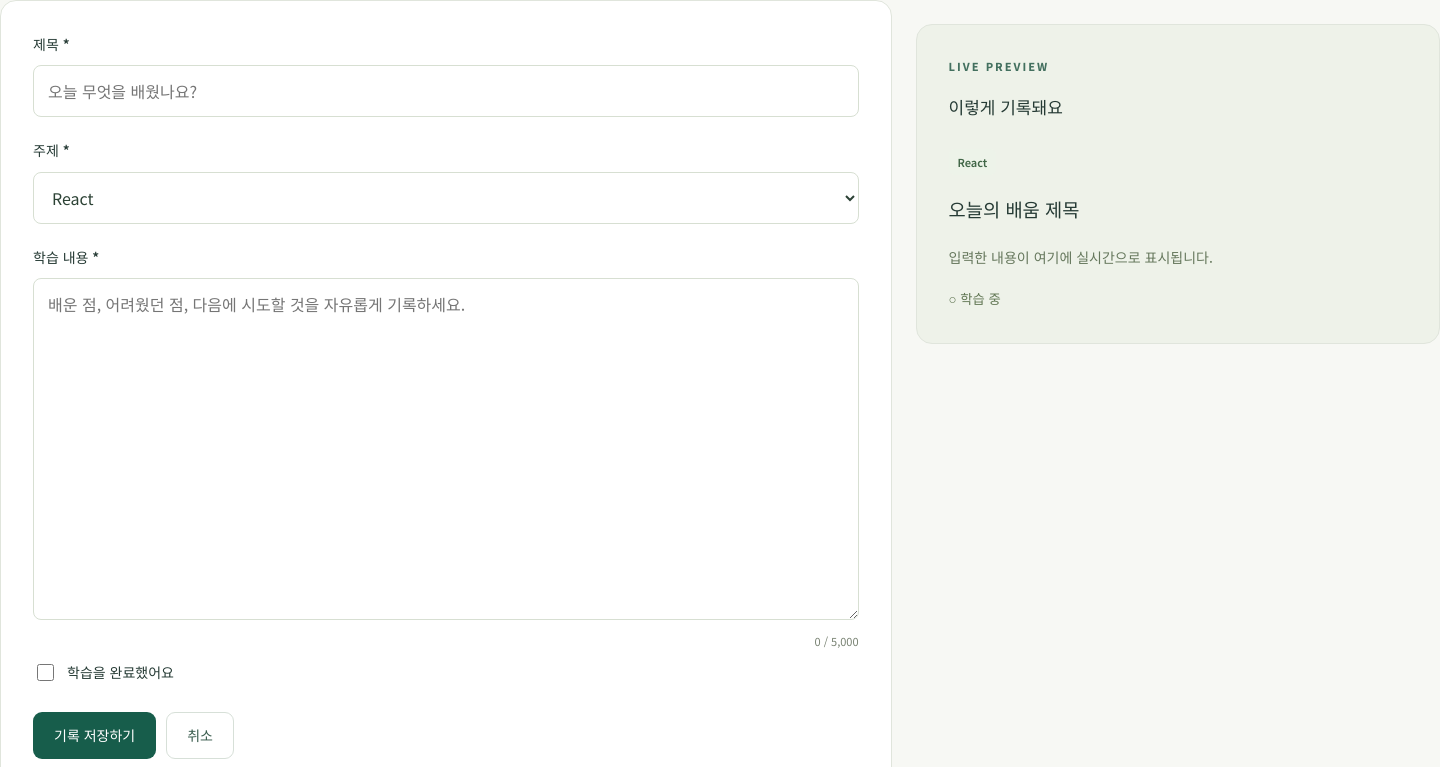
Test case: 학습 기록 사용자 흐름 › 빈 폼은 제출하지 않고 입력 오류를 보여준다
Step 1. Click the button "기록 저장하기" → (95,736), box 33,712 -> 156,759
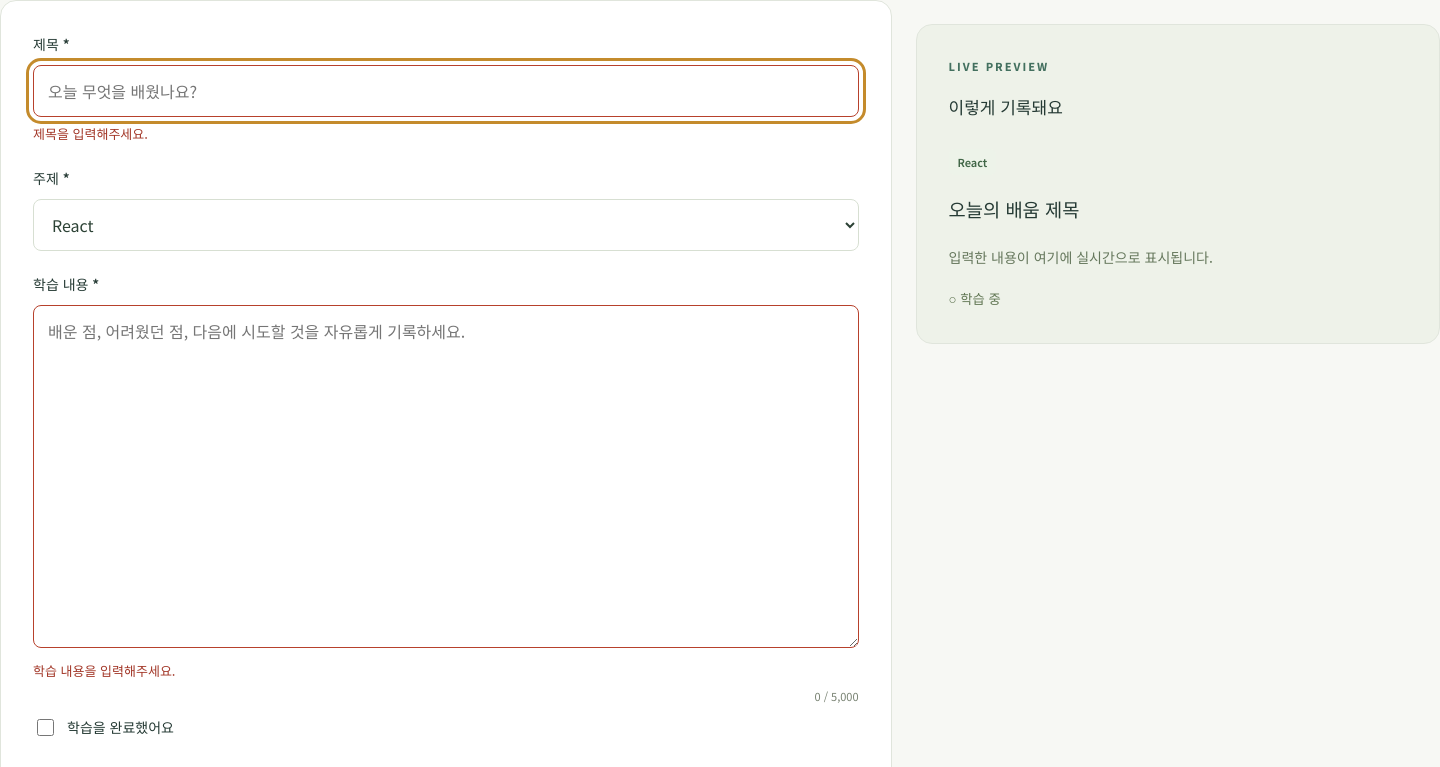
Now the text "제목을 입력해주세요." is shown, box 33,124 -> 148,144
